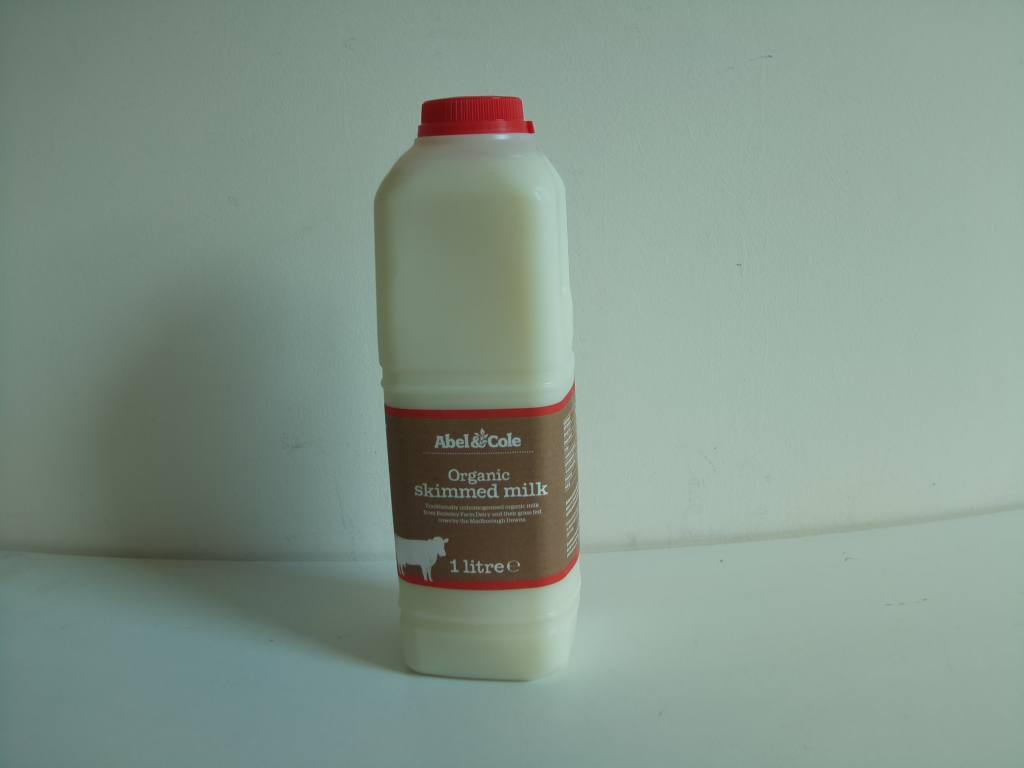milk: (363, 89, 594, 691)
